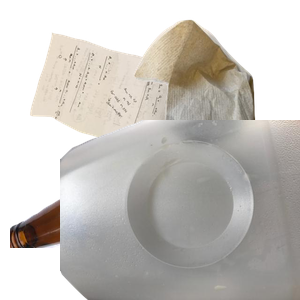glass: (10, 120, 247, 300)
paper: (27, 30, 203, 178)
plastic: (60, 120, 300, 300)
trash: (131, 17, 300, 197)
